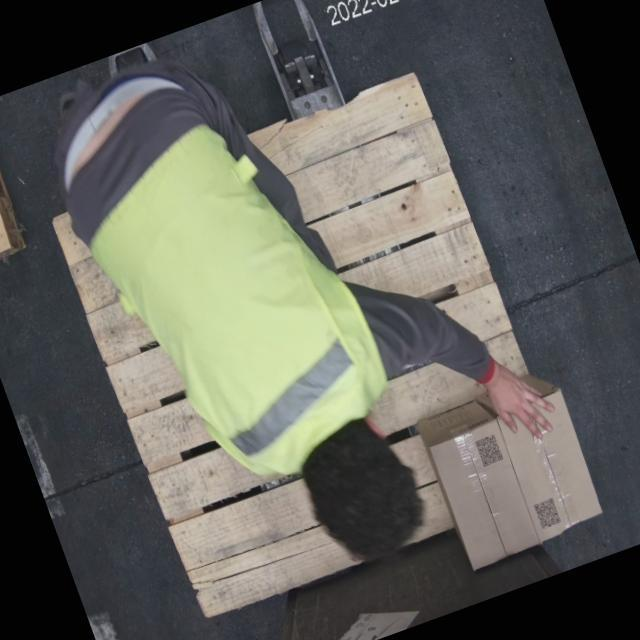box: (427, 419, 540, 568)
